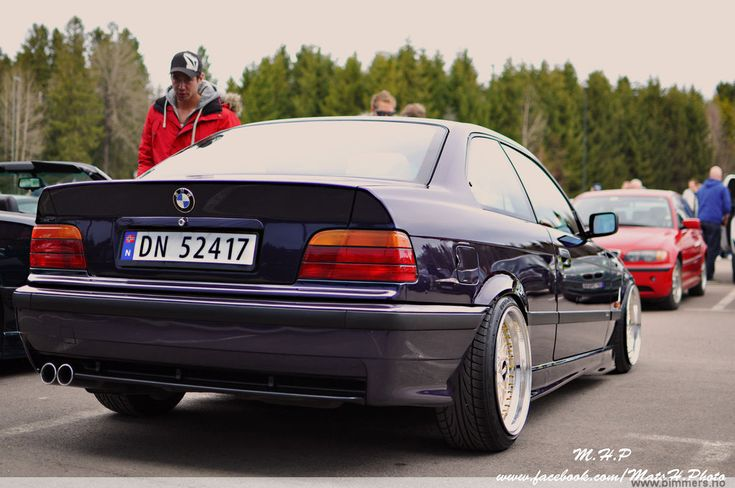car: (11, 111, 647, 458), (568, 179, 703, 318)
person: (696, 165, 732, 288)
